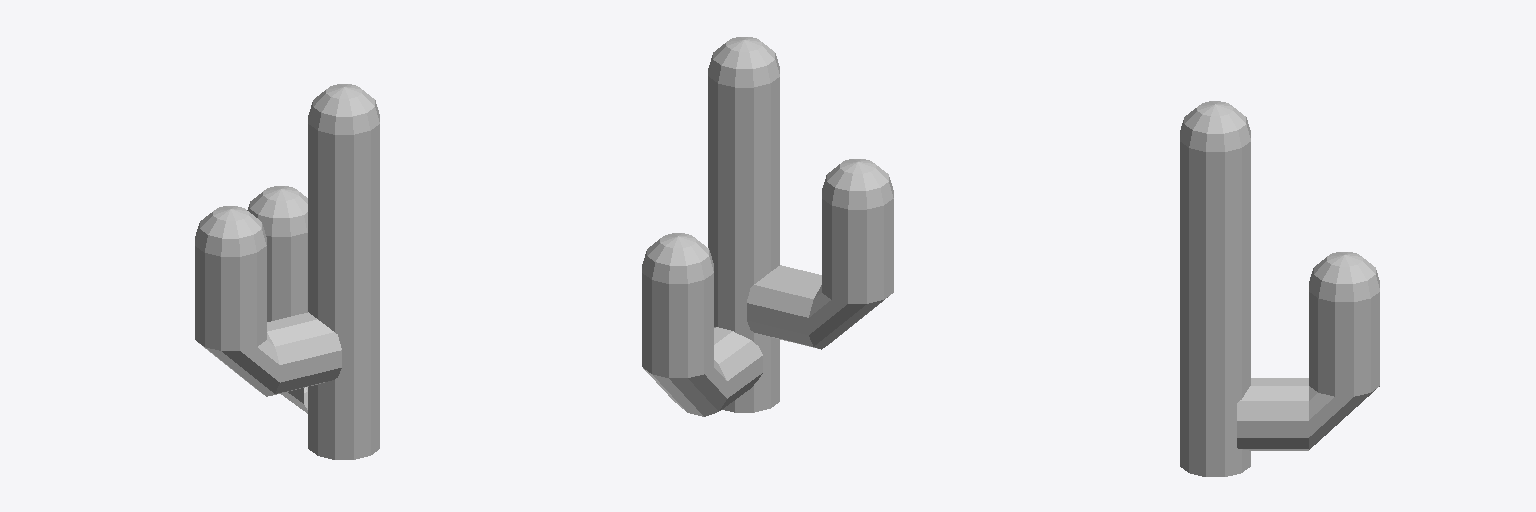
File: cactus3.obj
3 views of the same model, side by side, from view 1: azimuth 30°, elevation 25°; view 2: azimuth 150°, elevation 25°; view 3: azimuth 270°, elevation 25° (orthographic).
Visible parts, largest first — view 1: cylinder, sphere; view 2: cylinder, sphere; view 3: cylinder, sphere.
Boxes of the visible parts, x1,y1,x2,y2 form: cylinder: [195, 124, 379, 459]; sphere: [195, 84, 379, 256]; cylinder: [642, 76, 893, 416]; sphere: [642, 37, 893, 283]; cylinder: [1180, 142, 1379, 476]; sphere: [1180, 101, 1379, 301].
Size of the model in its own units: 0.3562 by 0.6875 by 0.35.